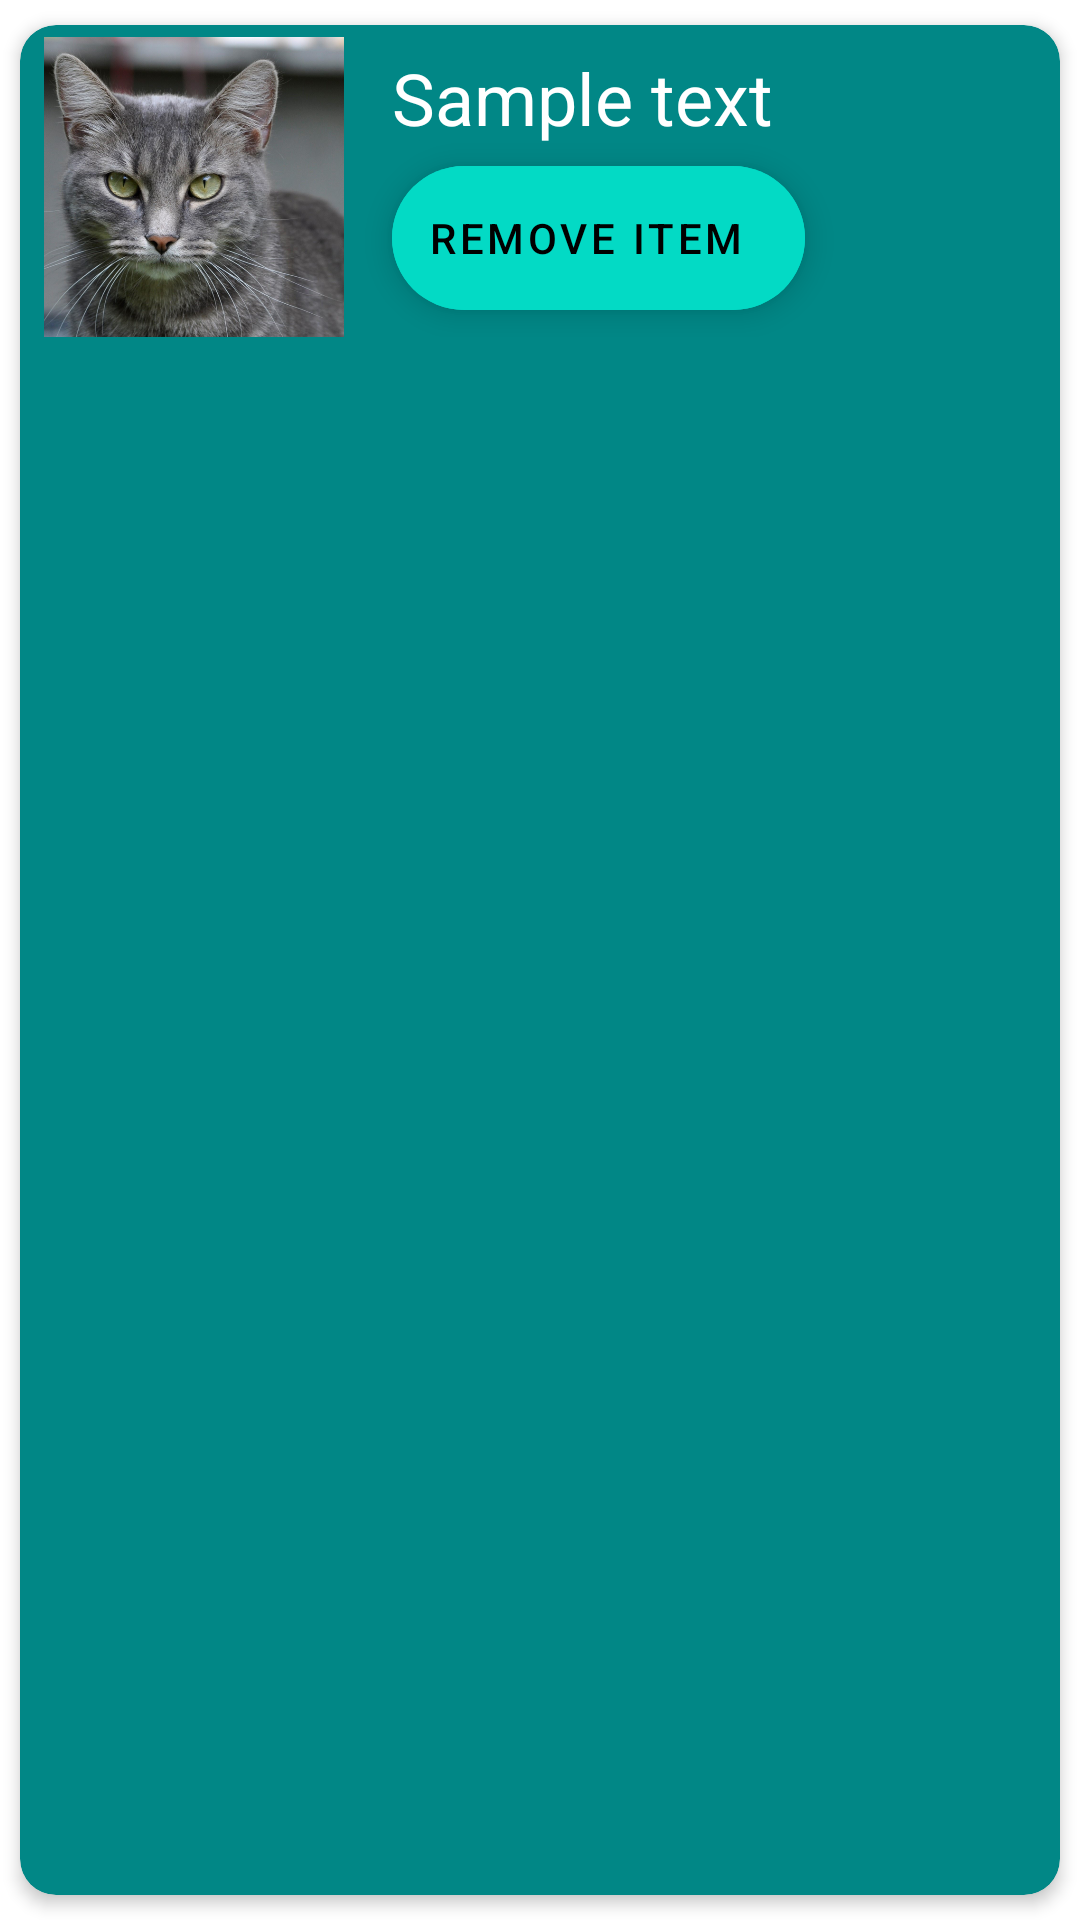

Icon bounding boxes for this 1080x1920 phone screenshot, format (x1, y1, x2, y2):
Cat image: (44, 37, 344, 337)
